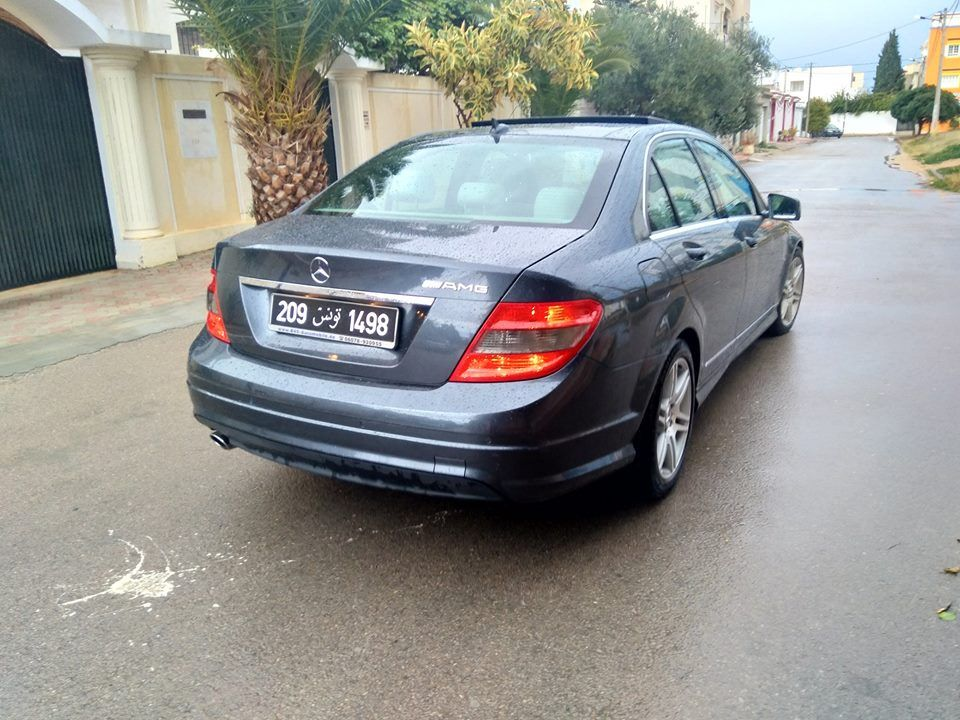LP: (261, 287, 402, 350)
